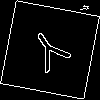Y: (25, 25, 78, 82)
